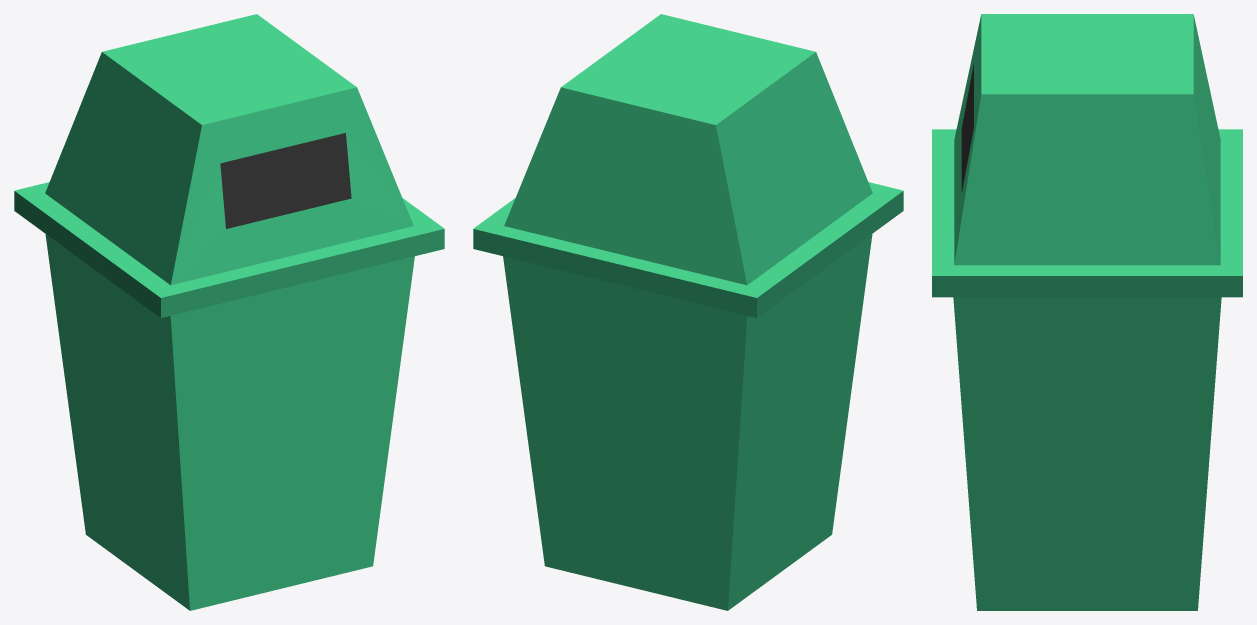
Rendered from SM_RecycleBin_Green_01.fbx.
3 renders of one model, left to right at view 1: azimuth 30°, elevation 25°; view 2: azimuth 150°, elevation 25°; view 3: azimuth 270°, elevation 25°, orthographic. The views are drawn at different scales.
Parts seen in each view (by area): view 1: SM_RecycleBin_Green_01; view 2: SM_RecycleBin_Green_01; view 3: SM_RecycleBin_Green_01.
Boxes of the visible parts, <box> form: SM_RecycleBin_Green_01: <box>14,14,444,610</box>; SM_RecycleBin_Green_01: <box>473,14,903,610</box>; SM_RecycleBin_Green_01: <box>932,14,1242,610</box>.
Bounding box in the file's own units: 1.02 × 1.66 × 0.9159.
